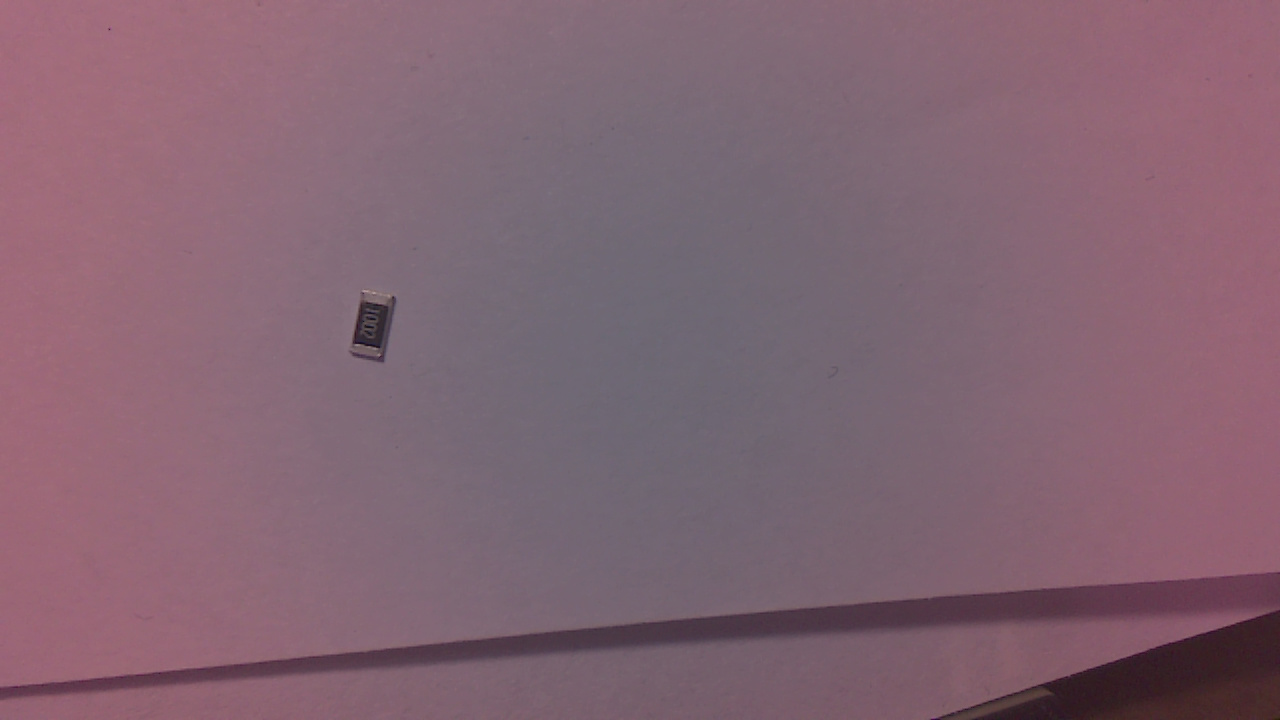Resistor: (352, 294, 402, 367)
